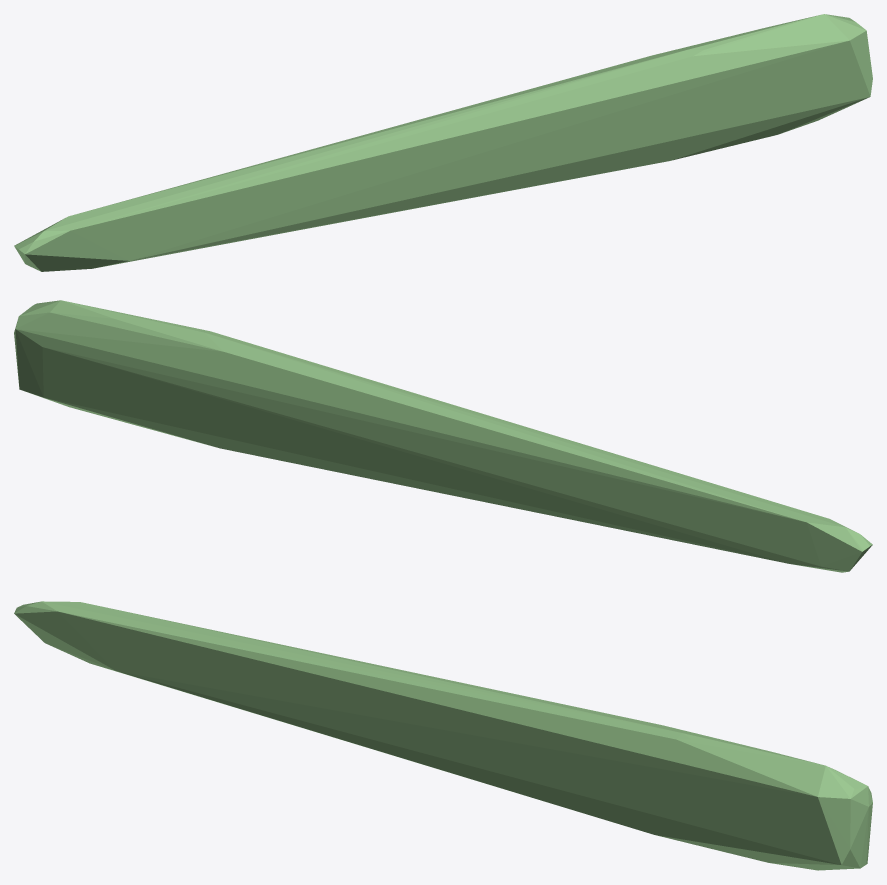
File: paint_supplies_brush_a02.glb
3 views of the same model, one above another, from view 1: azimuth 30°, elevation 25°; view 2: azimuth 150°, elevation 25°; view 3: azimuth 330°, elevation 25° (orthographic).
Visible parts, largest first — view 1: geometry_0; view 2: geometry_0; view 3: geometry_0.
Part boxes in pixels (x1,y1,x2,y2): geometry_0: [14, 14, 872, 271]; geometry_0: [14, 300, 872, 572]; geometry_0: [14, 601, 872, 870].
Bounding box in the file's own units: 0.4726 × 0.0564 × 0.0287.
